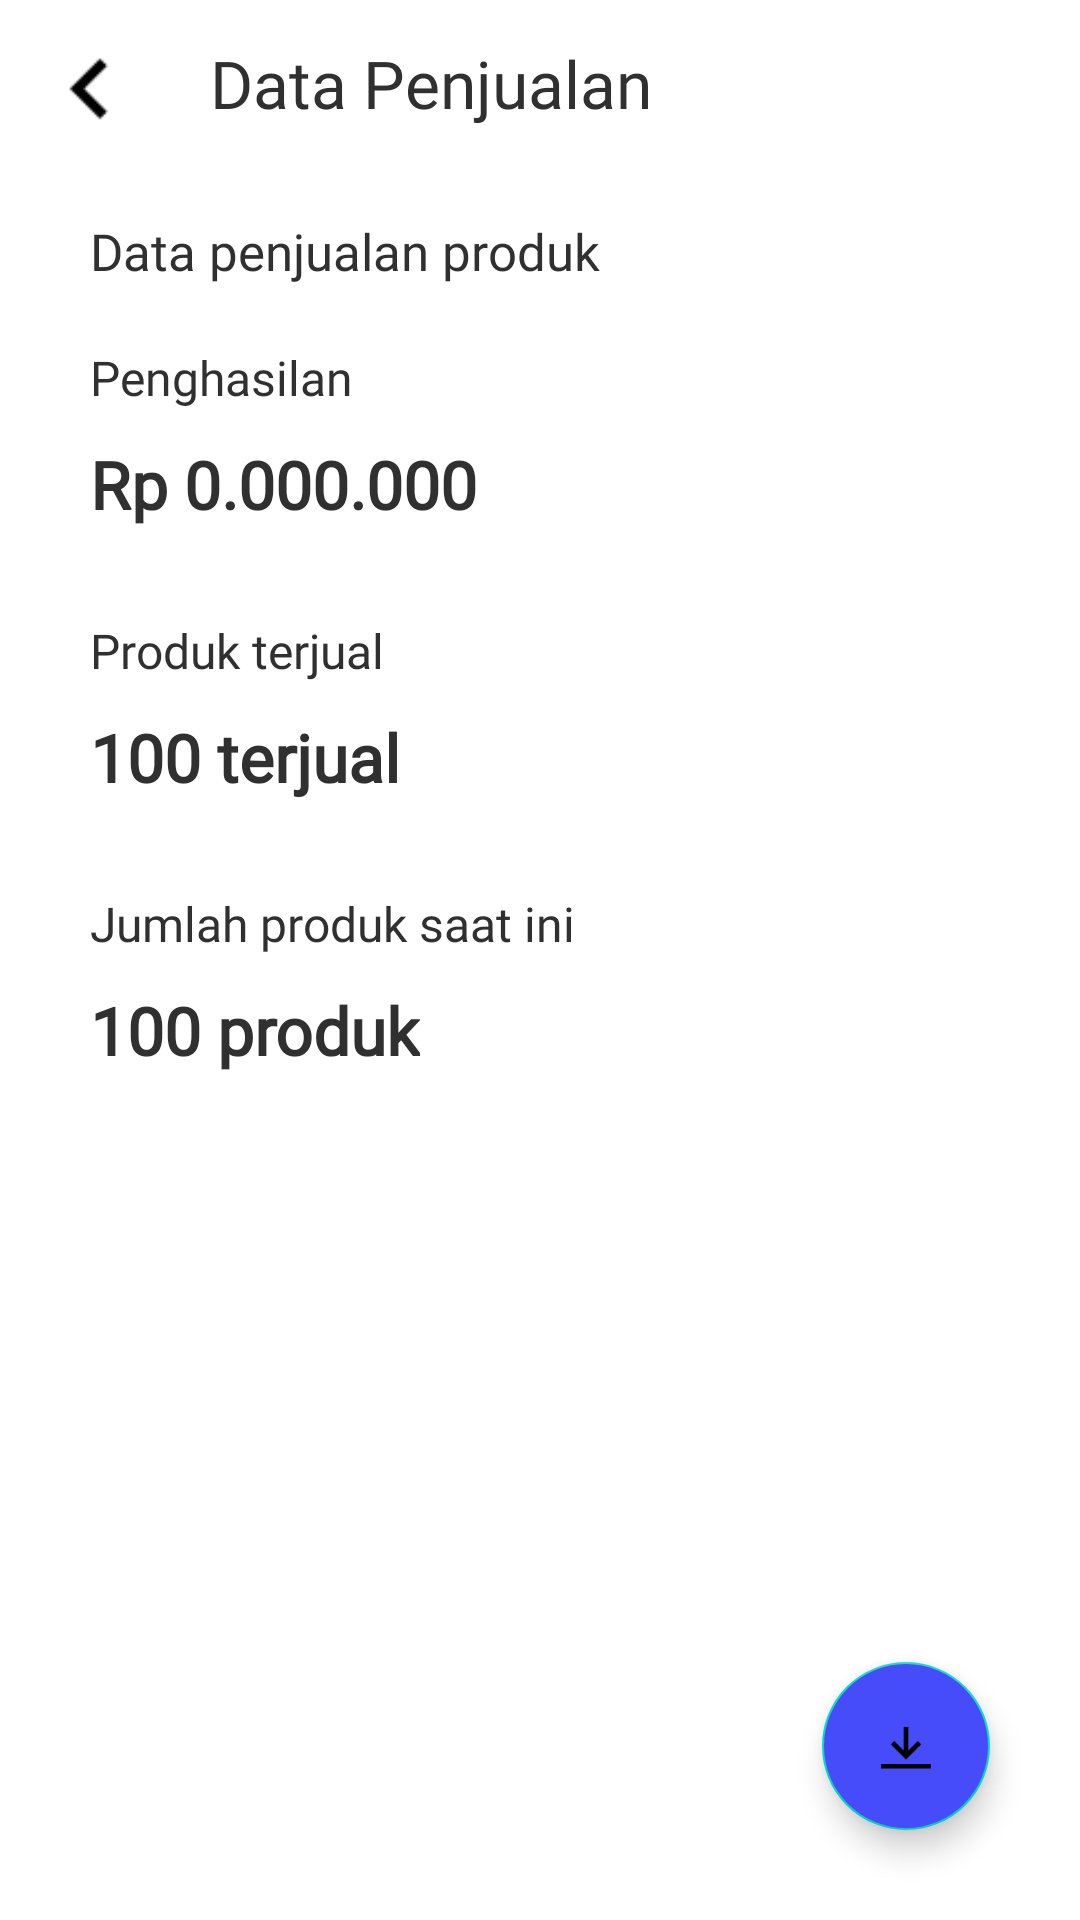

Locate icon controls on the screen. Image size 1080*1920, boxes as (x1, y1, x2, y2).
arrow left: (69, 58, 108, 120)
download: (822, 1662, 990, 1830)
